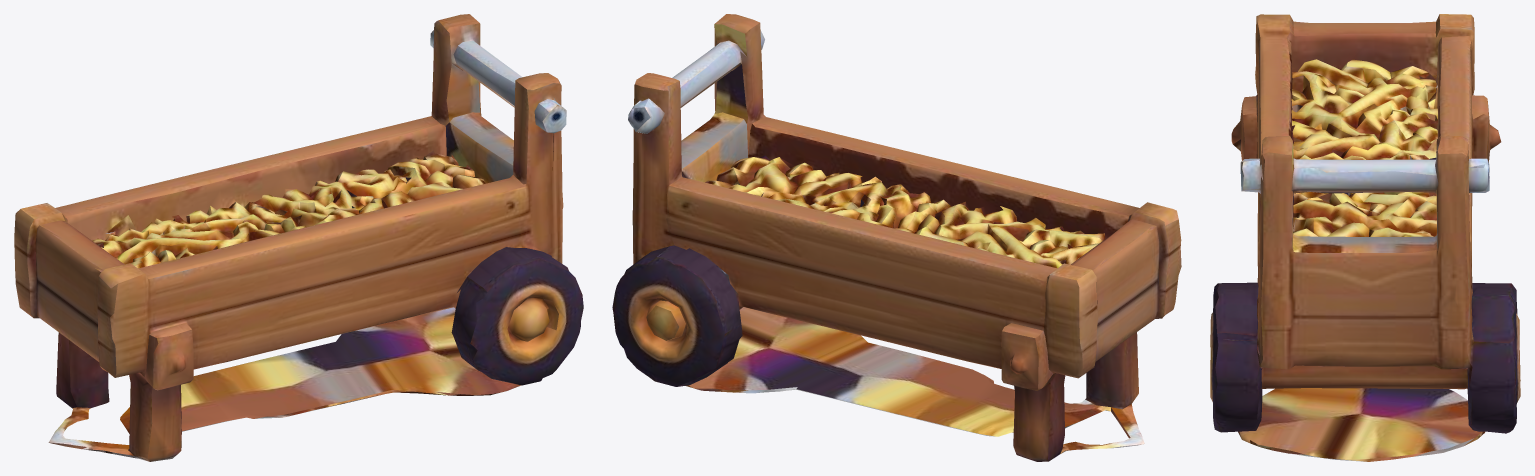
File: trough.glb
3 renders of one model, left to right at view 1: azimuth 30°, elevation 25°; view 2: azimuth 150°, elevation 25°; view 3: azimuth 270°, elevation 25°, orthographic. The views are drawn at different scales.
Parts seen in each view (by area): view 1: trough_s19; view 2: trough_s19; view 3: trough_s19.
Part boxes in pixels (left/top/right/bottom): trough_s19: left=14, top=14, right=583, bottom=461; trough_s19: left=612, top=14, right=1181, bottom=461; trough_s19: left=1210, top=14, right=1520, bottom=461.
Size of the model in its own units: 1 by 0.5844 by 0.529.
1 material, 1 textured.
